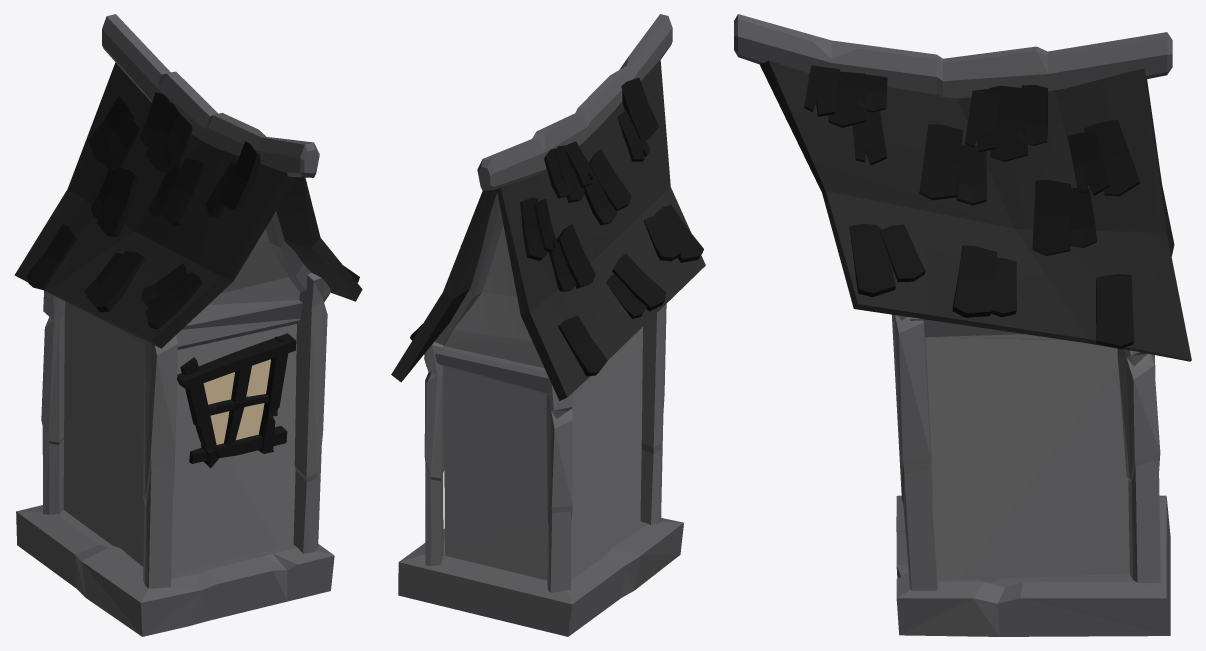
File: WF_LP_HT_Build_HouseRoom.004.1.fbx
3 renders of one model, left to right at view 1: azimuth 30°, elevation 25°; view 2: azimuth 150°, elevation 25°; view 3: azimuth 270°, elevation 25°, orthographic. The views are drawn at different scales.
Parts seen in each view (by area): view 1: WF_LP_HT_Build_HouseRoom.004.1; view 2: WF_LP_HT_Build_HouseRoom.004.1; view 3: WF_LP_HT_Build_HouseRoom.004.1.
Boxes of the visible parts, left/top/right/bottom form: WF_LP_HT_Build_HouseRoom.004.1: left=14, top=14, right=362, bottom=636; WF_LP_HT_Build_HouseRoom.004.1: left=391, top=14, right=705, bottom=636; WF_LP_HT_Build_HouseRoom.004.1: left=734, top=14, right=1191, bottom=636.
Size of the model in its own units: 2.67 by 6.16 by 4.5.
